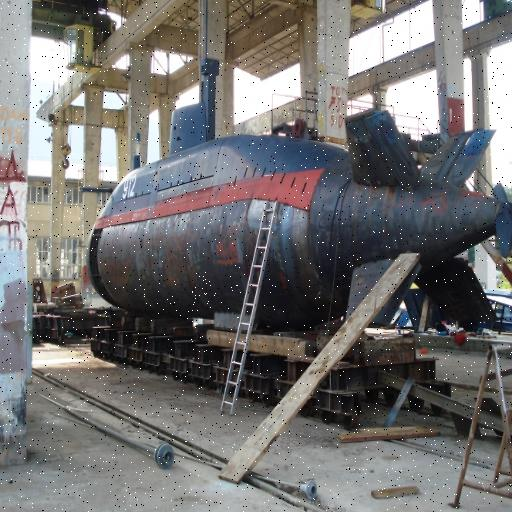submarine: (97, 56, 508, 334)
